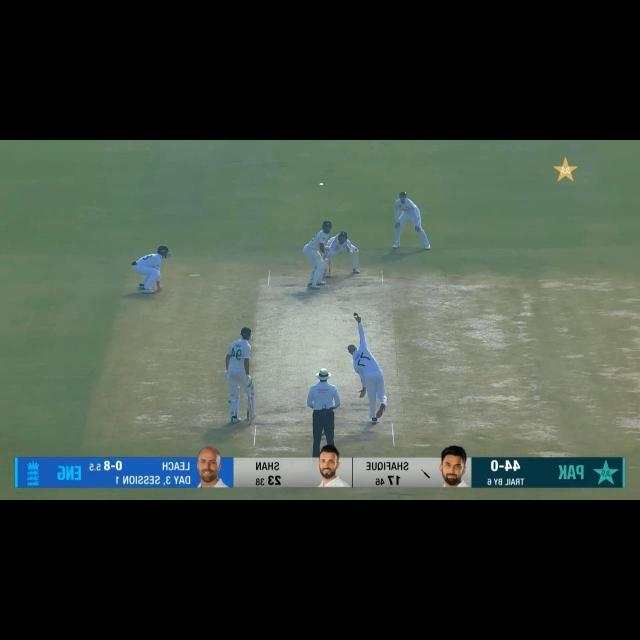bat: (327, 233, 341, 250), (248, 393, 253, 425)
toe: (248, 418, 253, 425), (335, 233, 340, 238)
